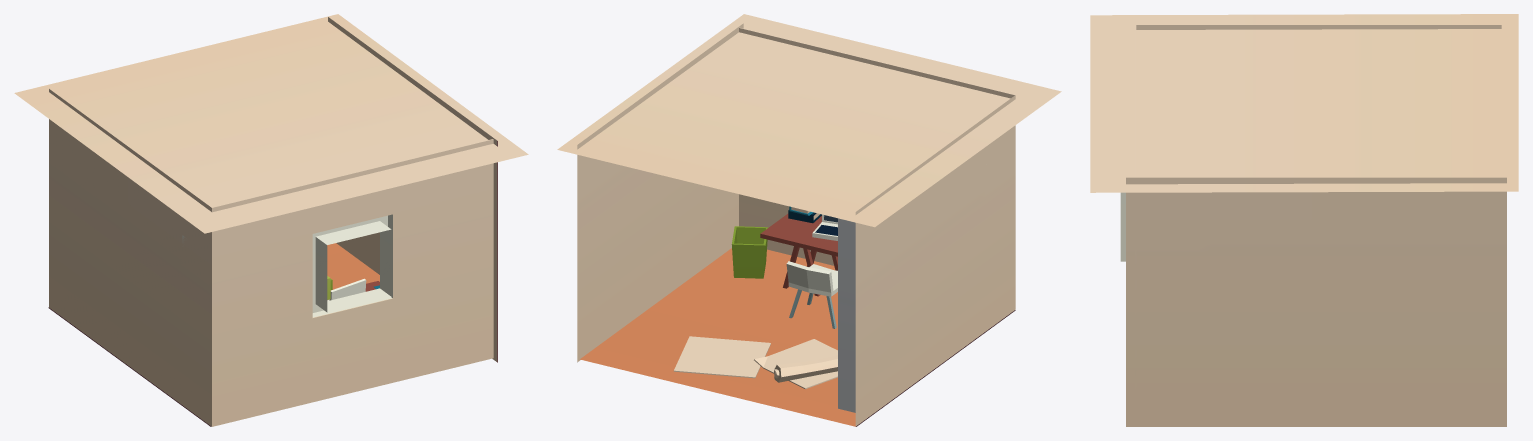
The model's file is room.glb.
3 views of the same model, side by side, from view 1: azimuth 30°, elevation 25°; view 2: azimuth 150°, elevation 25°; view 3: azimuth 270°, elevation 25° (orthographic). The views are drawn at different scales.
Visible parts, largest first — view 1: Room.001; view 2: Room.001; view 3: Room.001.
Part boxes in pixels (left/top/right/bottom): Room.001: left=14, top=14, right=528, bottom=426; Room.001: left=557, top=14, right=1061, bottom=426; Room.001: left=1090, top=14, right=1518, bottom=426.
Bounding box in the file's own units: 4.03 × 2.63 × 4.1.
Materials: 1 (1 with a texture image).
